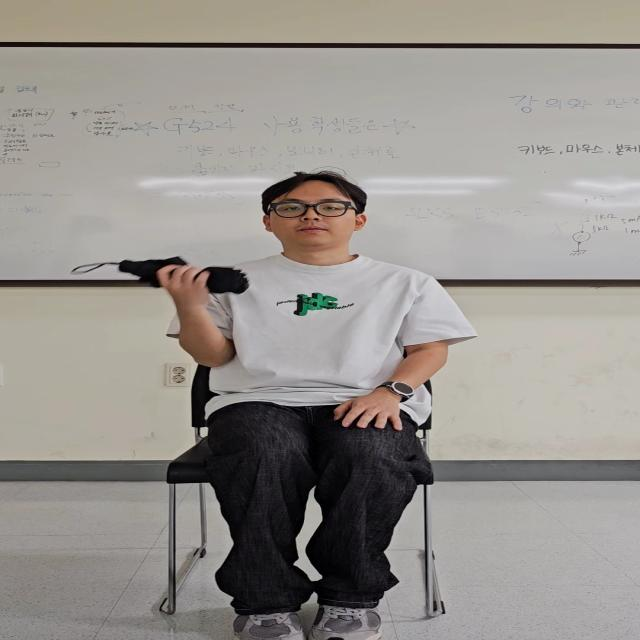curl: (133, 245, 255, 372)
